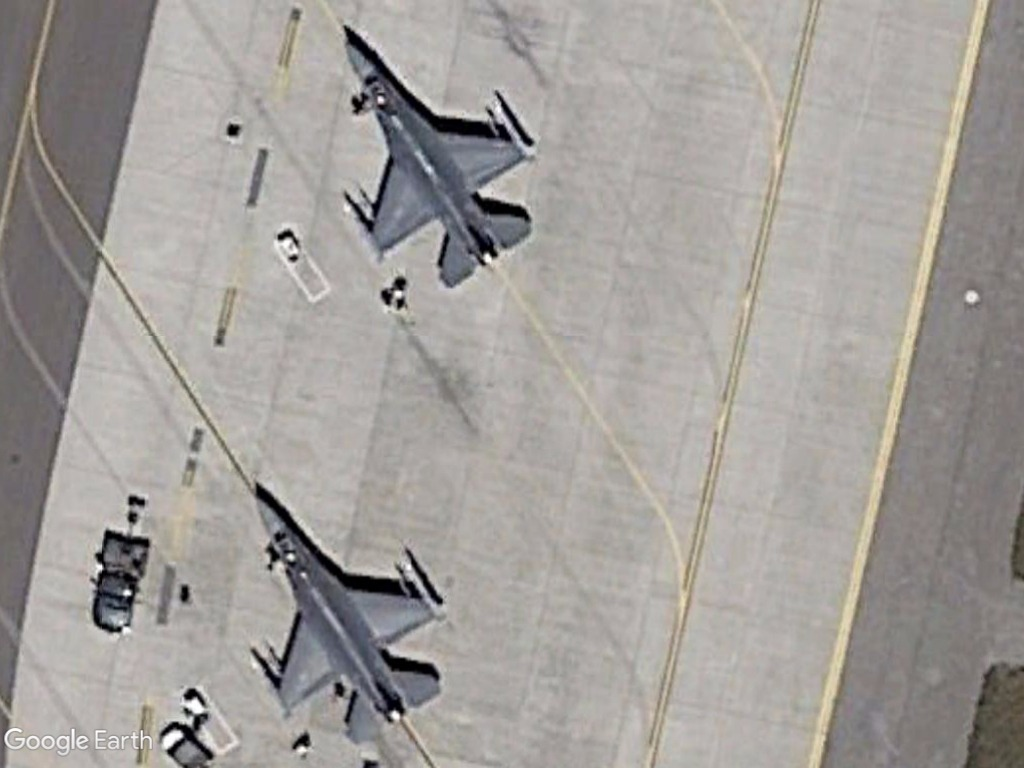fighter: (334, 26, 542, 296), (245, 482, 451, 752)
